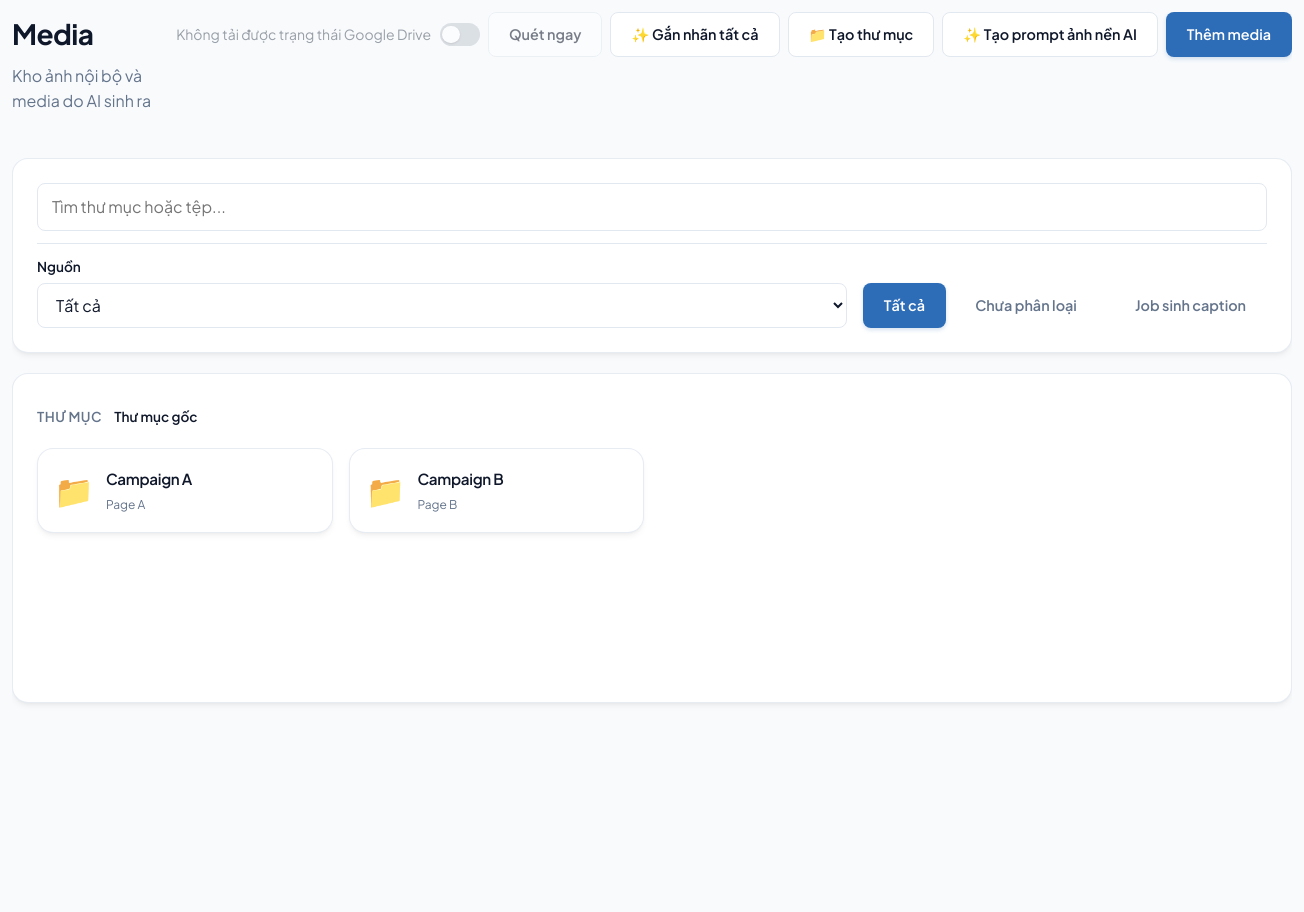
Test: MEDIA-04 MediaPage cross-Page browser flow › right-click on grid whitespace shows create-folder and add-media actions
Expected: the heading "Campaign A" is shown, [106, 469, 192, 488]
Right-click the element with class "media-browser-grid" at (652,466), box [37, 398, 1267, 533]
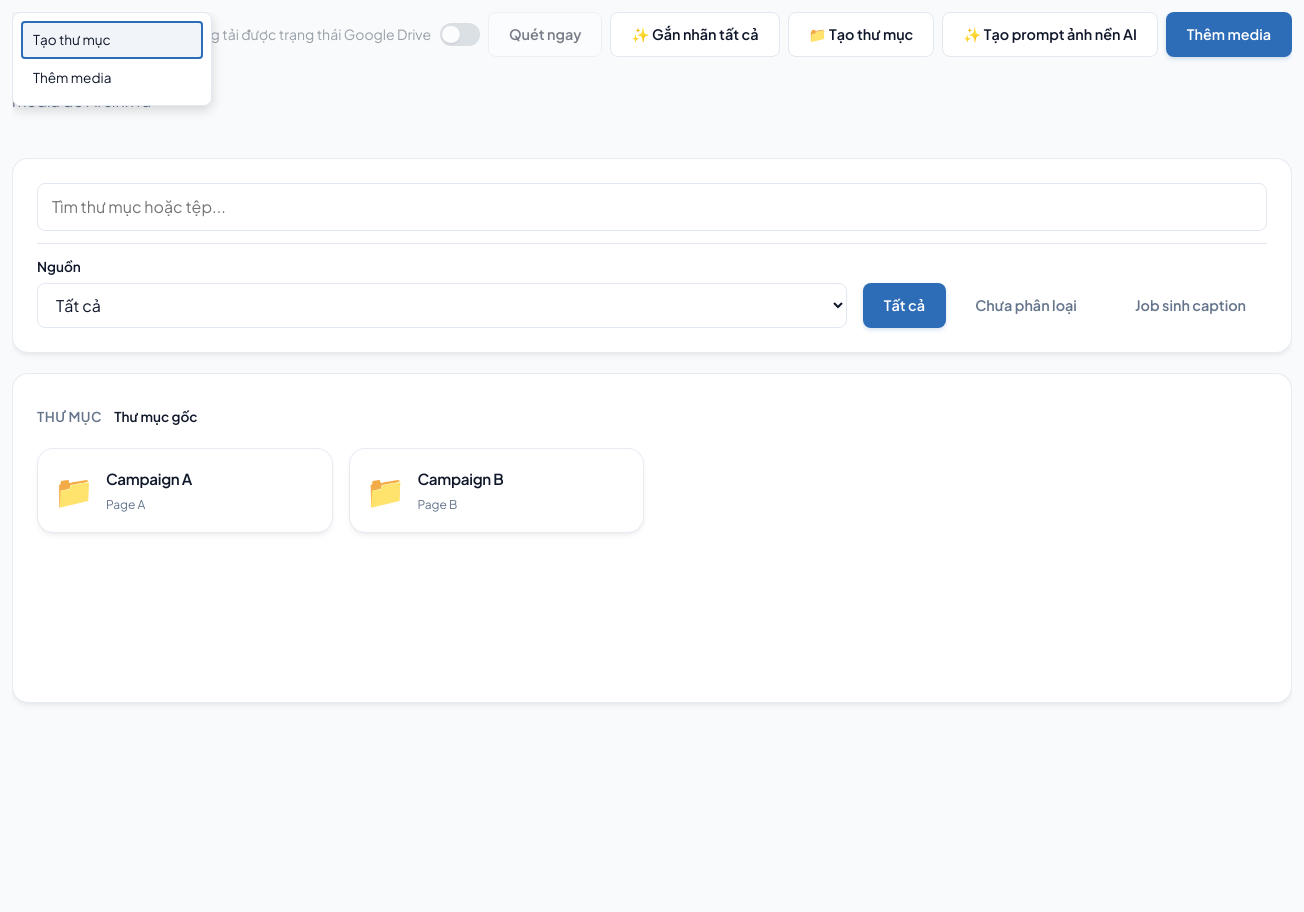
Result: the menu item "Tạo thư mục" is shown at [21, 21, 203, 59]
Result: the menu item "Thêm media" is shown at [21, 59, 203, 97]
